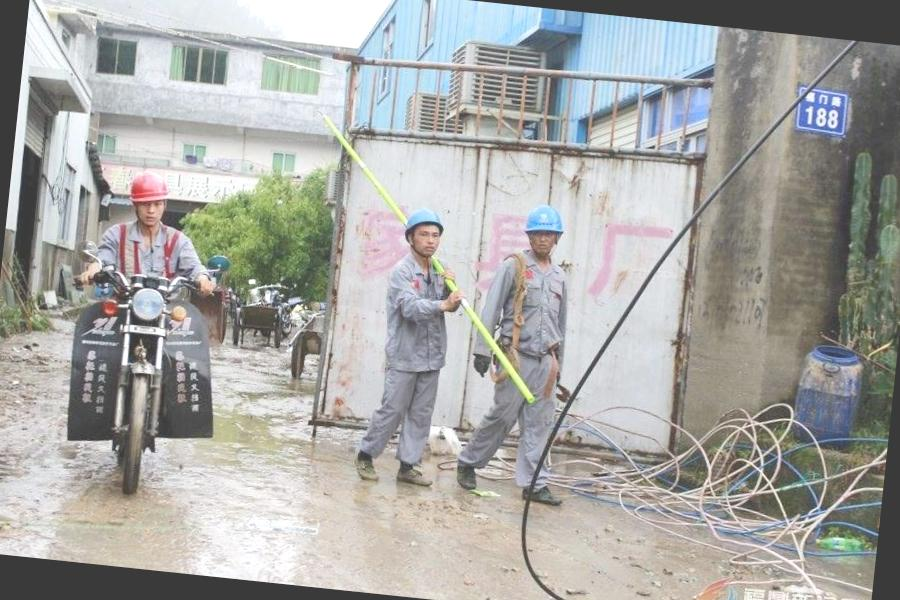helmet: (119, 167, 179, 220), (400, 204, 454, 254), (520, 201, 570, 251)
person: (475, 205, 582, 507), (364, 204, 466, 496), (85, 166, 214, 304)
